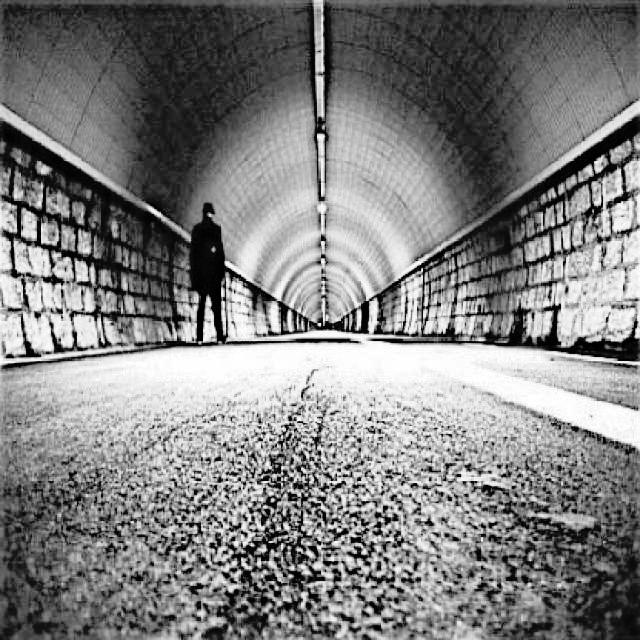Person: (186, 200, 231, 346)
